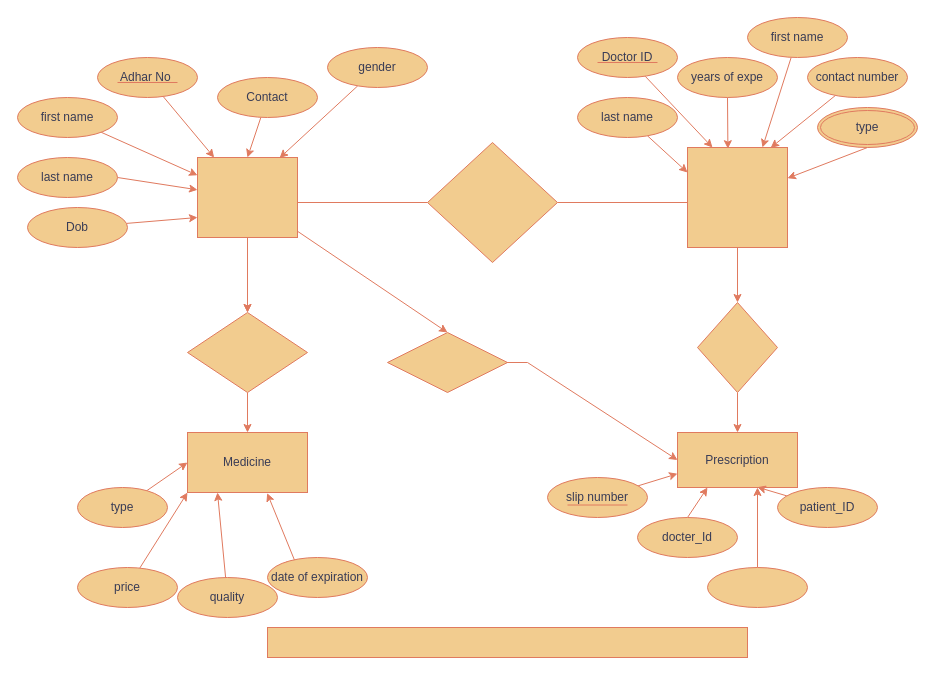
Some shapes in this 935 by 675 pixel diagram are drawn without their labels. The shapes that lost their labels are listed below. From the top down, each one's box as (x1, y1, x2, y2) in pixels, then its label:
(196, 156, 298, 238): Patient
(426, 142, 558, 262): book Appointment
(686, 146, 788, 248): doctor
(186, 312, 308, 392): Perchase
(386, 332, 508, 392): shared with
(696, 302, 778, 392): writes
(706, 566, 808, 608): date of generation
(266, 626, 748, 658): Online Doctor Consultation ER-Diagram
